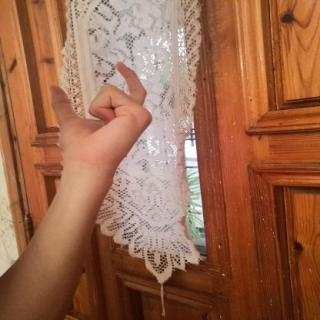NOON: (38, 52, 164, 176)
